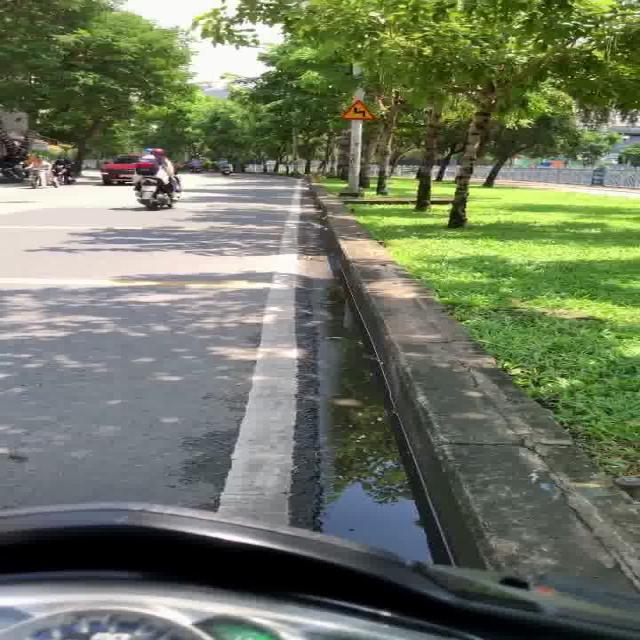Bien bao nhieu cho ngoat nguy hiem lien tiep: (337, 98, 379, 121)
